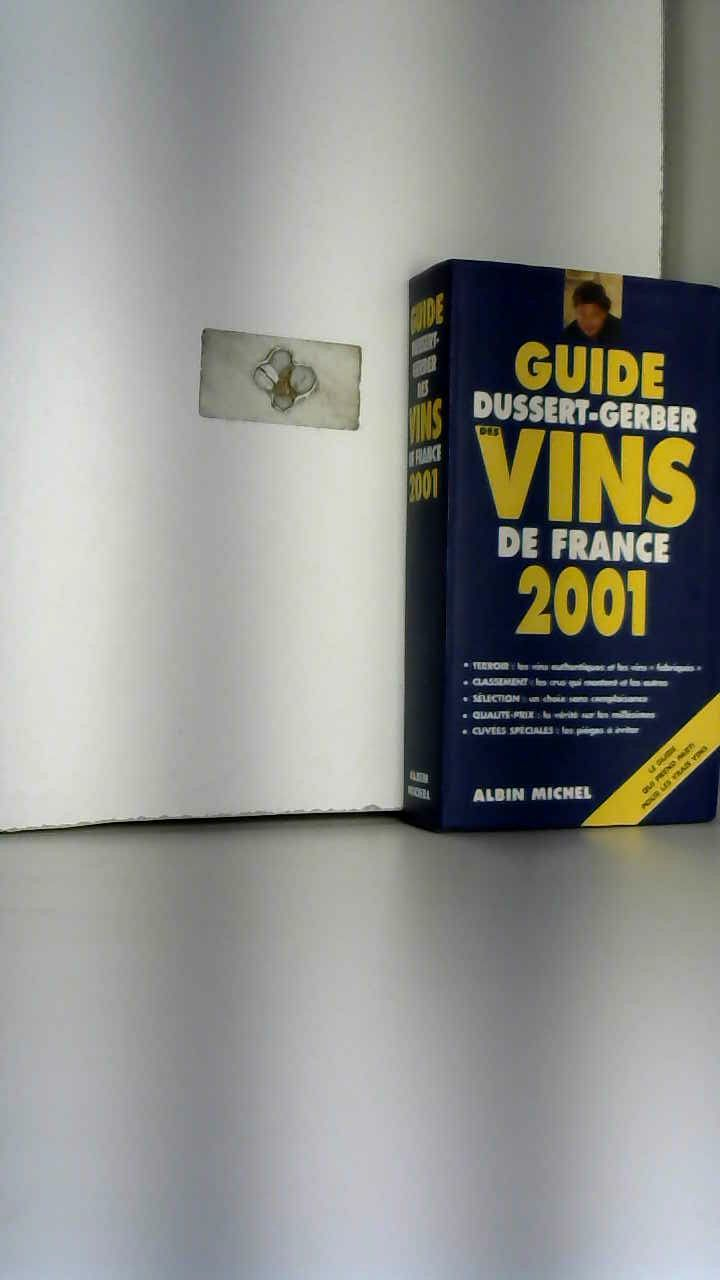book: (376, 229, 720, 864)
